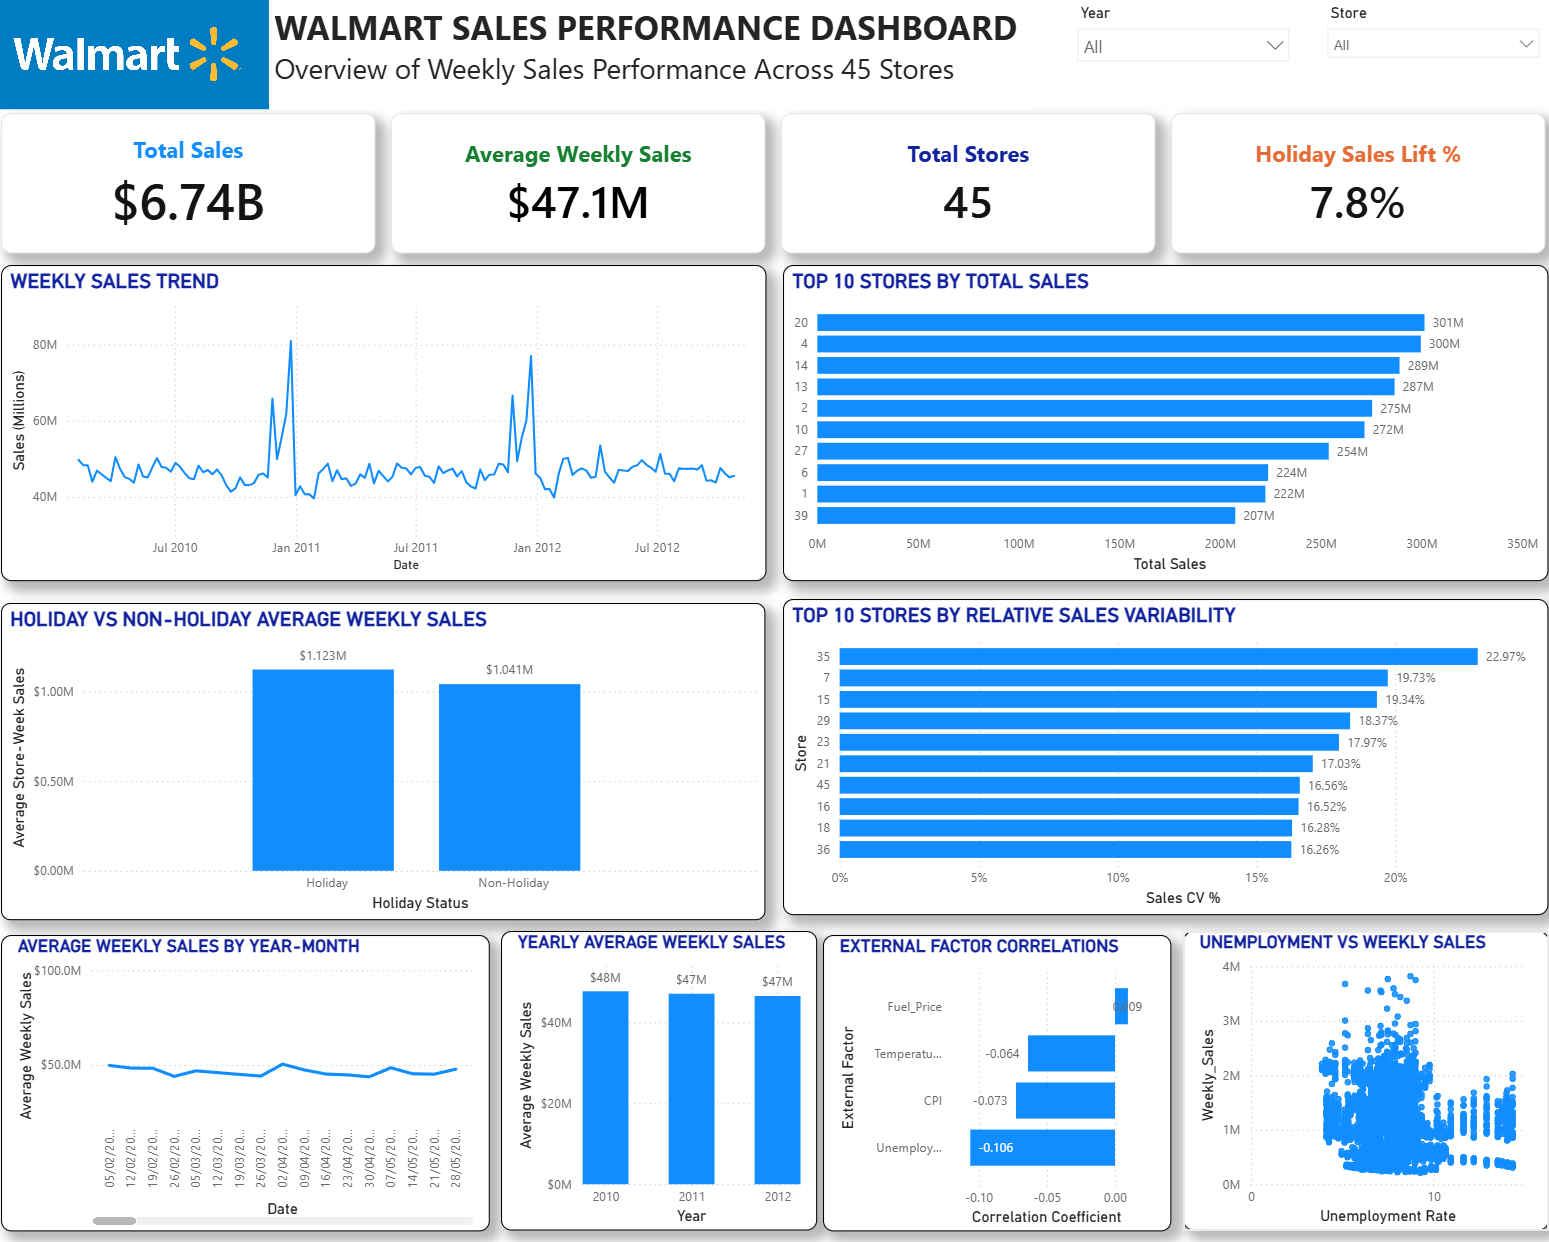

What the dashboard file says about the page in this screenshot:
{"tool":"powerbi","page":{"name":"Page 1","canvas":[1527,1200],"ordinal":0},"visuals":[{"type":"textbox","box":[0,0,1522,106],"z":0},{"type":"cardVisual","fields":{"Data":["Measures (2).Total Sales Display"]},"box":[15,110,360,135],"z":1000},{"type":"cardVisual","fields":{"Data":["Measures (2).Average Weekly Sales"]},"box":[390,110,360,135],"z":2000},{"type":"cardVisual","fields":{"Data":["Measures (2).Total Stores"]},"box":[765,110,360,135],"z":3000},{"type":"cardVisual","fields":{"Data":["Measures (2).Holiday Sales Lift %"]},"box":[1140,110,360,135],"z":4000},{"type":"image","box":[0,0,274,106],"z":5000},{"type":"textbox","box":[274,0,732,106],"z":6000},{"type":"slicer","fields":{"Values":["Date_Table.Date.Variation.Date Hierarchy.Year"]},"box":[1040,0,224,64],"z":7000},{"type":"slicer","fields":{"Values":["Walmart_Sales.Store"]},"box":[1280,0,224,64],"z":8000},{"type":"lineChart","title":"WEEKLY SALES TREND","fields":{"Category":["Date_Table.Date"],"Y":["Measures (2).Total Sales"]},"box":[16,256,736,304],"z":9000},{"type":"clusteredBarChart","title":"TOP 10 STORES BY TOTAL SALES","fields":{"Category":["Walmart_Sales.Store"],"Y":["Measures (2).Total Sales"]},"box":[768,256,736,304],"z":10000},{"type":"clusteredColumnChart","title":"HOLIDAY VS NON-HOLIDAY AVERAGE WEEKLY SALES","fields":{"Category":["Walmart_Sales.Holiday Status"],"Y":["Measures (2).Average Store-Week Sales"]},"box":[15,580,735,305],"z":11000},{"type":"clusteredBarChart","title":"TOP 10 STORES BY RELATIVE SALES VARIABILITY","fields":{"Category":["Walmart_Sales.Store"],"Y":["Measures (2).Sales CV %"]},"box":[768,576,736,304],"z":12000},{"type":"lineChart","title":"AVERAGE WEEKLY SALES BY YEAR-MONTH","fields":{"Y":["Measures (2).Average Weekly Sales"],"Category":["Date_Table.Date"]},"box":[15,900,470,285],"z":13000},{"type":"clusteredColumnChart","title":"YEARLY AVERAGE WEEKLY SALES","fields":{"Y":["Measures (2).Average Weekly Sales"],"Category":["Date_Table.Date.Variation.Date Hierarchy.Year"]},"box":[496,896,304,288],"z":14000},{"type":"clusteredBarChart","title":"EXTERNAL FACTOR CORRELATIONS","fields":{"Y":["Sum(external_factor_correlations.Correlation)"],"Category":["external_factor_correlations.External Factor Name"]},"box":[805,900,335,285],"z":15000},{"type":"scatterChart","title":"UNEMPLOYMENT VS WEEKLY SALES","fields":{"X":["Walmart_Sales.Unemployment"],"Y":["Walmart_Sales.Weekly_Sales"]},"box":[1152,896,352,288],"z":16000}]}

Visuals, with their boxes in screenshot pixels (x1, y1, x2, y2), scaled from the page's 1527x1200 canvas onto the 1549x1242 screenshot:
textbox: {"left": 0, "top": 0, "right": 1544, "bottom": 110}
cardVisual - Measures (2).Total Sales Display: {"left": 15, "top": 114, "right": 380, "bottom": 254}
cardVisual - Measures (2).Average Weekly Sales: {"left": 396, "top": 114, "right": 761, "bottom": 254}
cardVisual - Measures (2).Total Stores: {"left": 776, "top": 114, "right": 1141, "bottom": 254}
cardVisual - Measures (2).Holiday Sales Lift %: {"left": 1156, "top": 114, "right": 1522, "bottom": 254}
image: {"left": 0, "top": 0, "right": 278, "bottom": 110}
textbox: {"left": 278, "top": 0, "right": 1020, "bottom": 110}
slicer - Date_Table.Date.Variation.Date Hierarchy.Year: {"left": 1055, "top": 0, "right": 1282, "bottom": 66}
slicer - Walmart_Sales.Store: {"left": 1298, "top": 0, "right": 1526, "bottom": 66}
"WEEKLY SALES TREND" lineChart: {"left": 16, "top": 265, "right": 763, "bottom": 580}
"TOP 10 STORES BY TOTAL SALES" clusteredBarChart: {"left": 779, "top": 265, "right": 1526, "bottom": 580}
"HOLIDAY VS NON-HOLIDAY AVERAGE WEEKLY SALES" clusteredColumnChart: {"left": 15, "top": 600, "right": 761, "bottom": 916}
"TOP 10 STORES BY RELATIVE SALES VARIABILITY" clusteredBarChart: {"left": 779, "top": 596, "right": 1526, "bottom": 911}
"AVERAGE WEEKLY SALES BY YEAR-MONTH" lineChart: {"left": 15, "top": 931, "right": 492, "bottom": 1226}
"YEARLY AVERAGE WEEKLY SALES" clusteredColumnChart: {"left": 503, "top": 927, "right": 812, "bottom": 1225}
"EXTERNAL FACTOR CORRELATIONS" clusteredBarChart: {"left": 817, "top": 931, "right": 1156, "bottom": 1226}
"UNEMPLOYMENT VS WEEKLY SALES" scatterChart: {"left": 1169, "top": 927, "right": 1526, "bottom": 1225}
